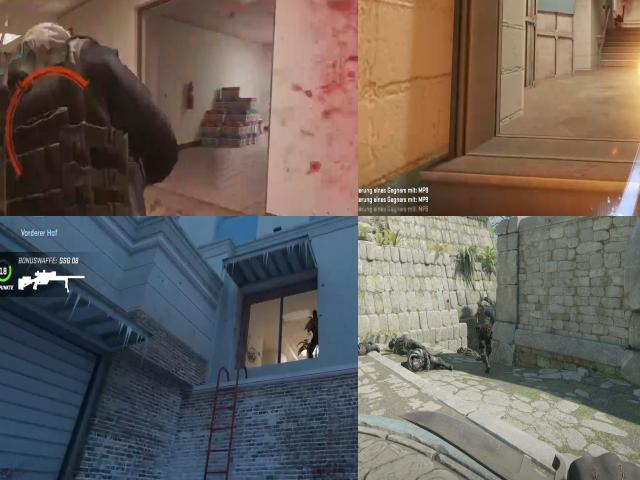CT: (475, 294, 496, 378)
CT-Head: (478, 295, 492, 309)
Dead: (400, 346, 450, 380), (384, 335, 423, 354), (358, 328, 376, 363), (454, 339, 479, 361), (610, 6, 629, 30)
T: (306, 308, 321, 350)
T-Head: (309, 308, 318, 324)
